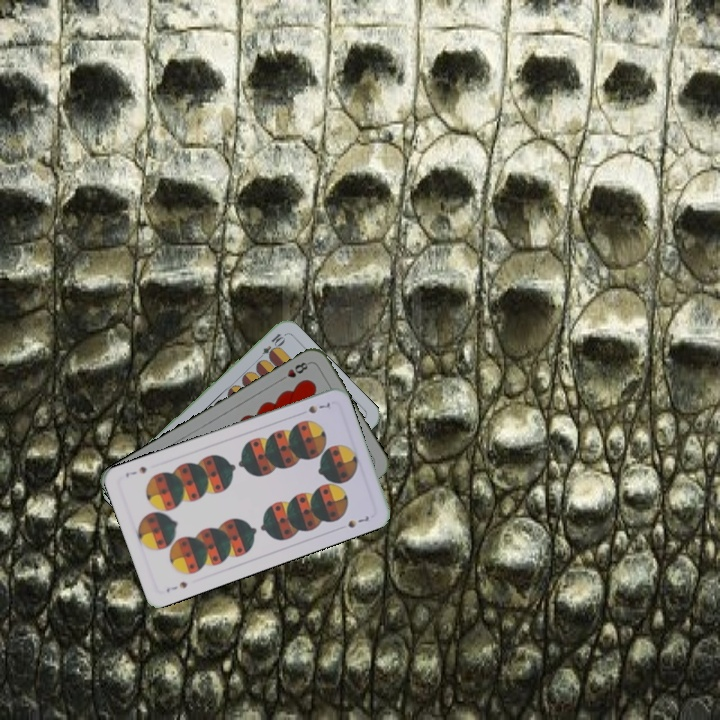E10: (253, 329, 287, 364)
H8: (276, 358, 312, 384)
S7: (304, 398, 335, 416), (162, 577, 190, 595)
